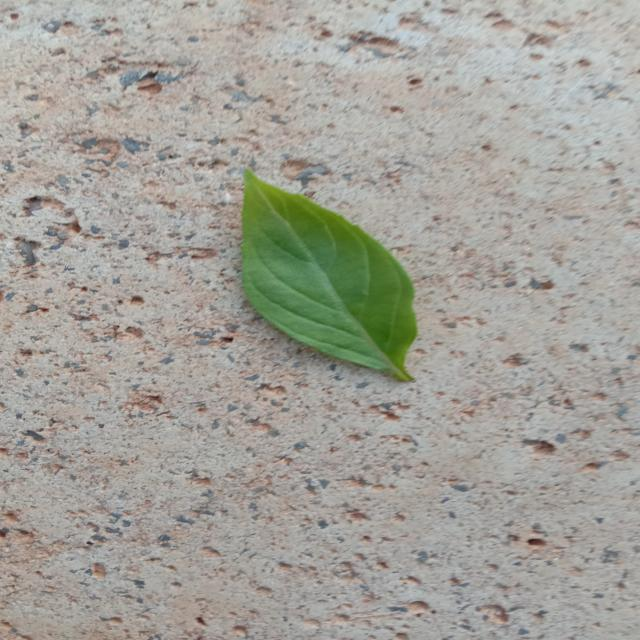kamakasturi: (241, 170, 418, 381)
